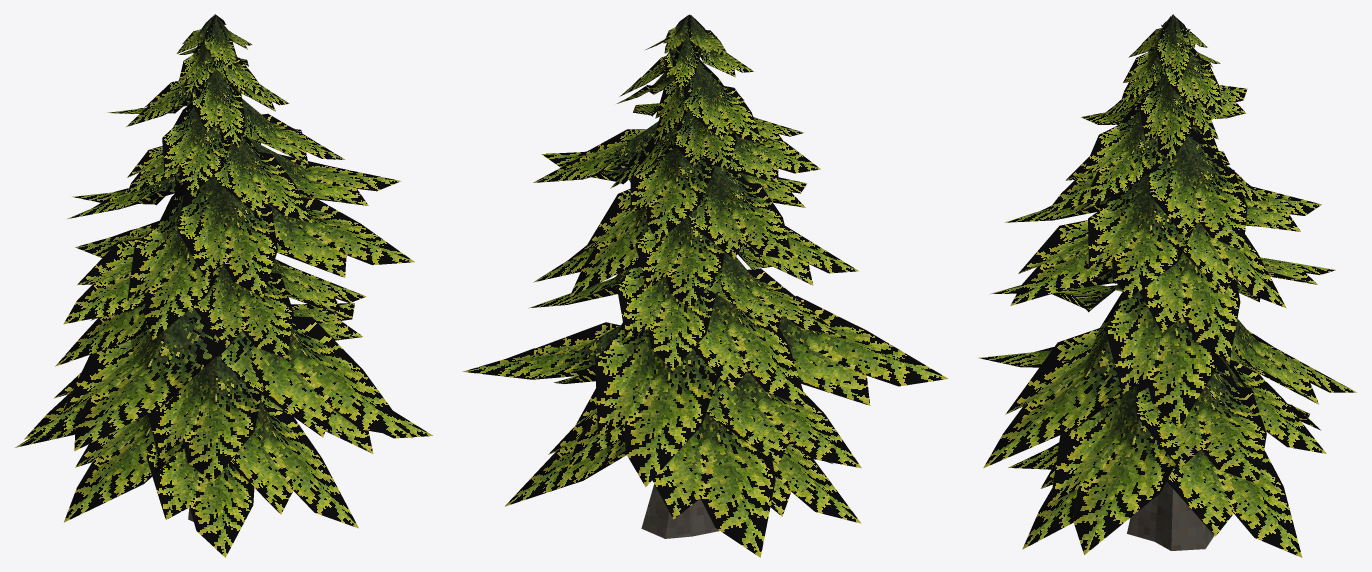
The model's file is pine-tree-ps1-low-poly.glb.
3 renders of one model, left to right at view 1: azimuth 30°, elevation 25°; view 2: azimuth 150°, elevation 25°; view 3: azimuth 270°, elevation 25°, orthographic. The views are drawn at different scales.
Parts seen in each view (by area): view 1: Plane.037; view 2: Plane.037; view 3: Plane.037.
Boxes of the visible parts, left/top/right/bottom form: Plane.037: left=15, top=14, right=432, bottom=557; Plane.037: left=462, top=14, right=948, bottom=557; Plane.037: left=978, top=14, right=1356, bottom=557.
Size of the model in its own units: 9.39 by 11.84 by 7.87.
1 material, 1 textured.
